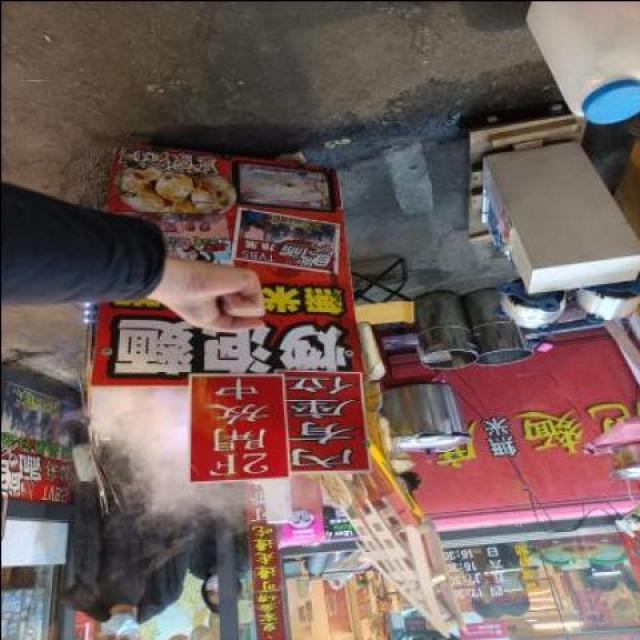Closed Hand: (141, 224, 274, 352)
